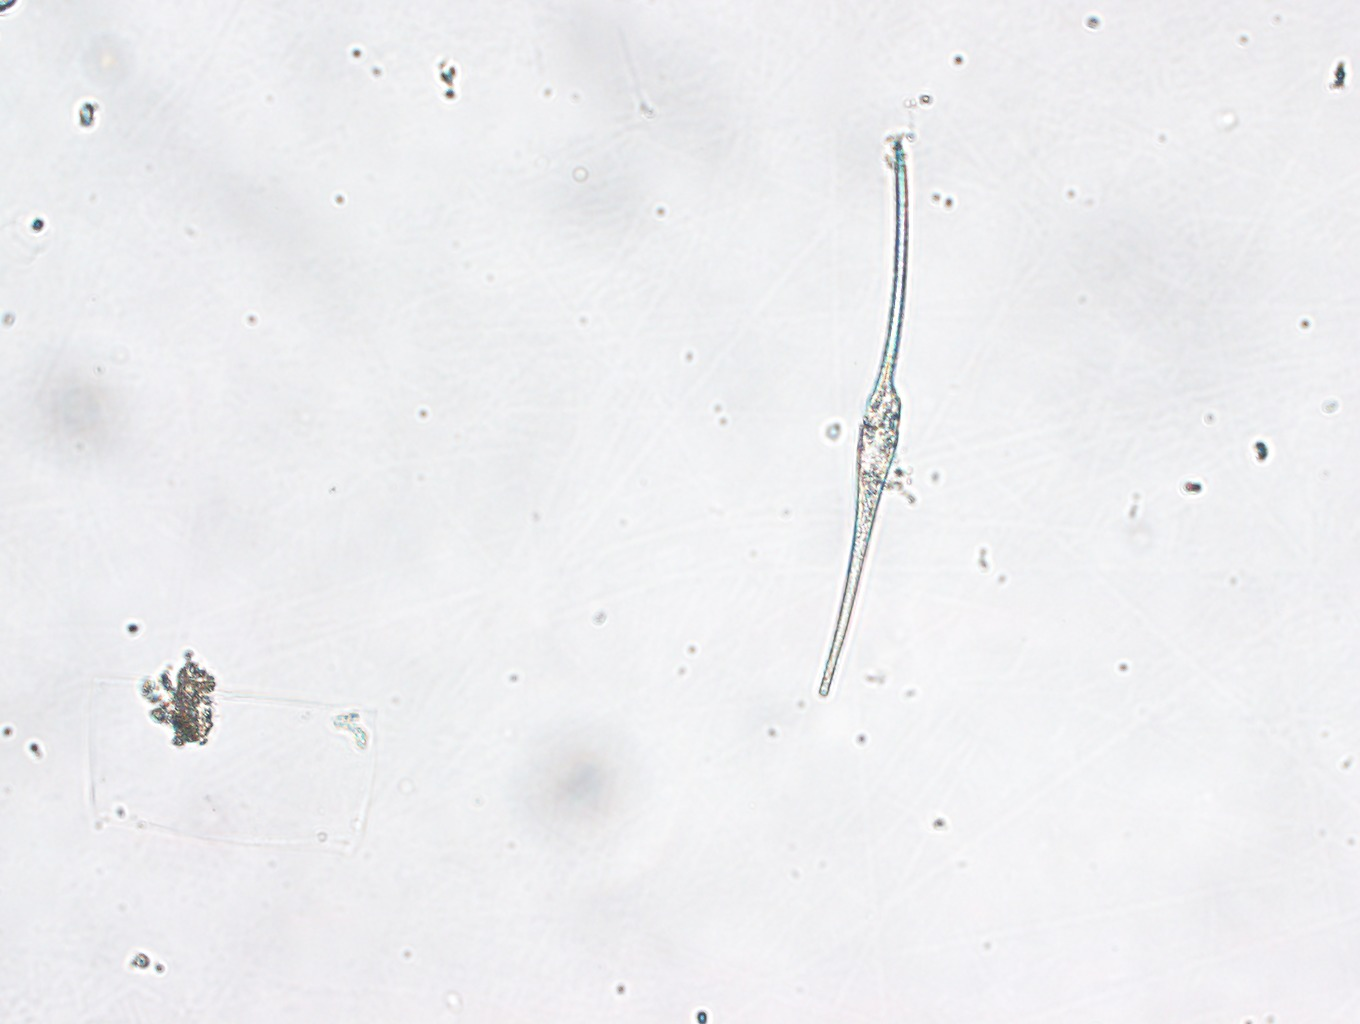ceratium fusus: (816, 140, 910, 700)
helicotheca: (80, 650, 380, 859)
